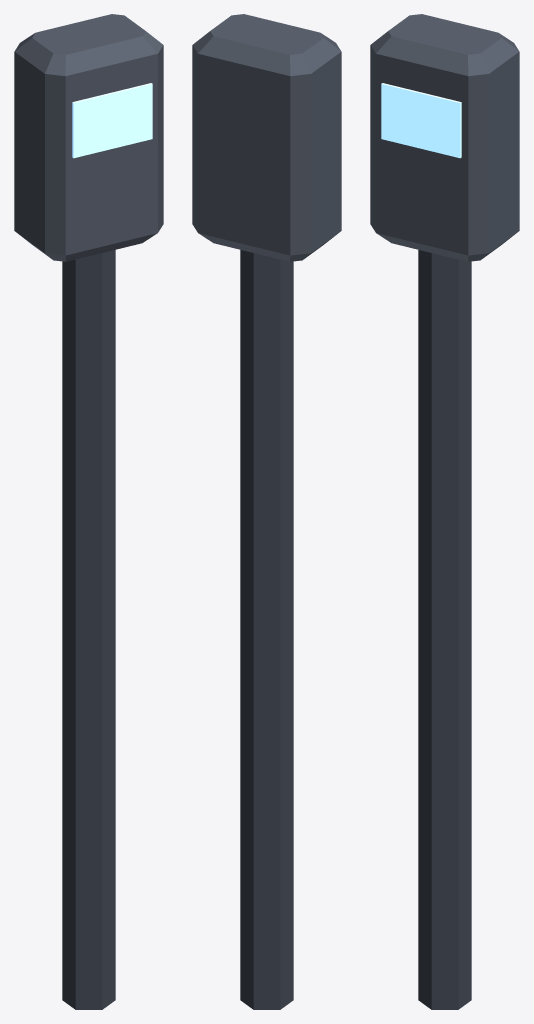
The model's file is parking_meter.glb.
The picture shows the model from 3 angles, left to right: view 1: azimuth 30°, elevation 25°; view 2: azimuth 150°, elevation 25°; view 3: azimuth 330°, elevation 25°; orthographic projection.
Visible parts, largest first — view 1: parking_meter; view 2: parking_meter; view 3: parking_meter.
Part boxes in pixels (left/top/right/bottom): parking_meter: left=14, top=14, right=163, bottom=1009; parking_meter: left=192, top=14, right=341, bottom=1009; parking_meter: left=370, top=14, right=519, bottom=1009.
Bounding box in the file's own units: 0.18 × 1.4 × 0.1235.
